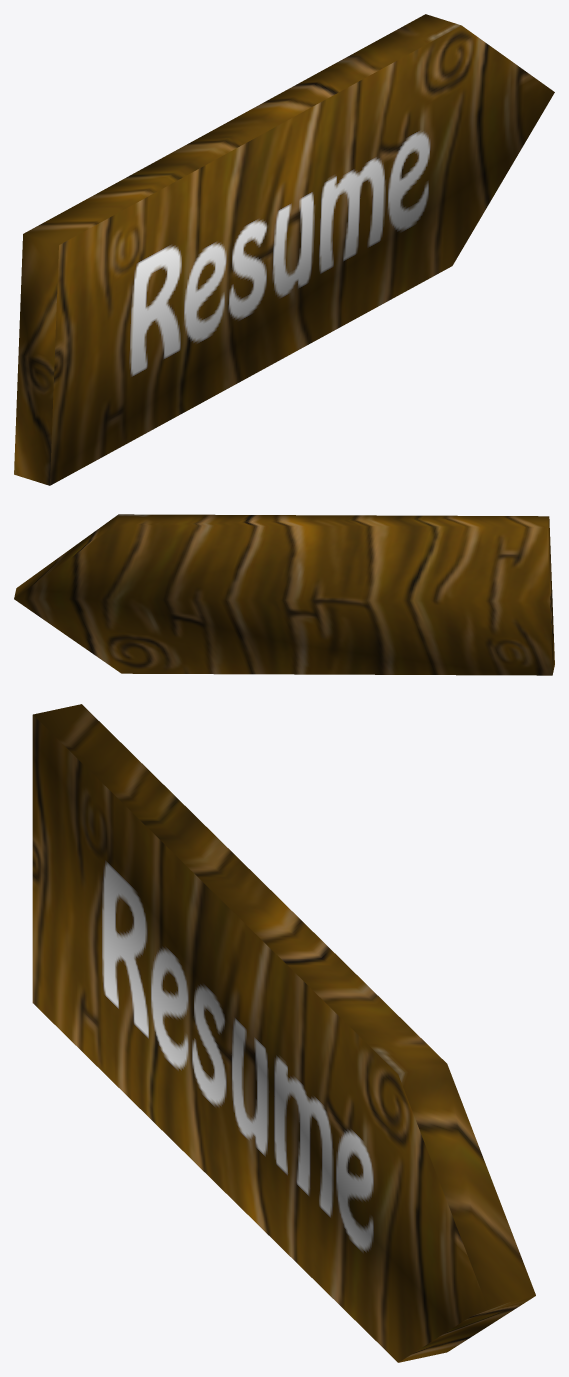
Rendered from resume.FBX.
3 renders of one model, top to bottom at view 1: azimuth 30°, elevation 25°; view 2: azimuth 150°, elevation 25°; view 3: azimuth 270°, elevation 25°, orthographic. The views are drawn at different scales.
Visible parts, largest first — view 1: Achievement01; view 2: Achievement01; view 3: Achievement01.
Part boxes in pixels (x1=…): Achievement01: x1=14, y1=14, x2=554, y2=485; Achievement01: x1=14, y1=514, x2=554, y2=675; Achievement01: x1=32, y1=704, x2=535, y2=1362.
Size of the model in its own units: 14.38 by 5.11 by 7.21.
